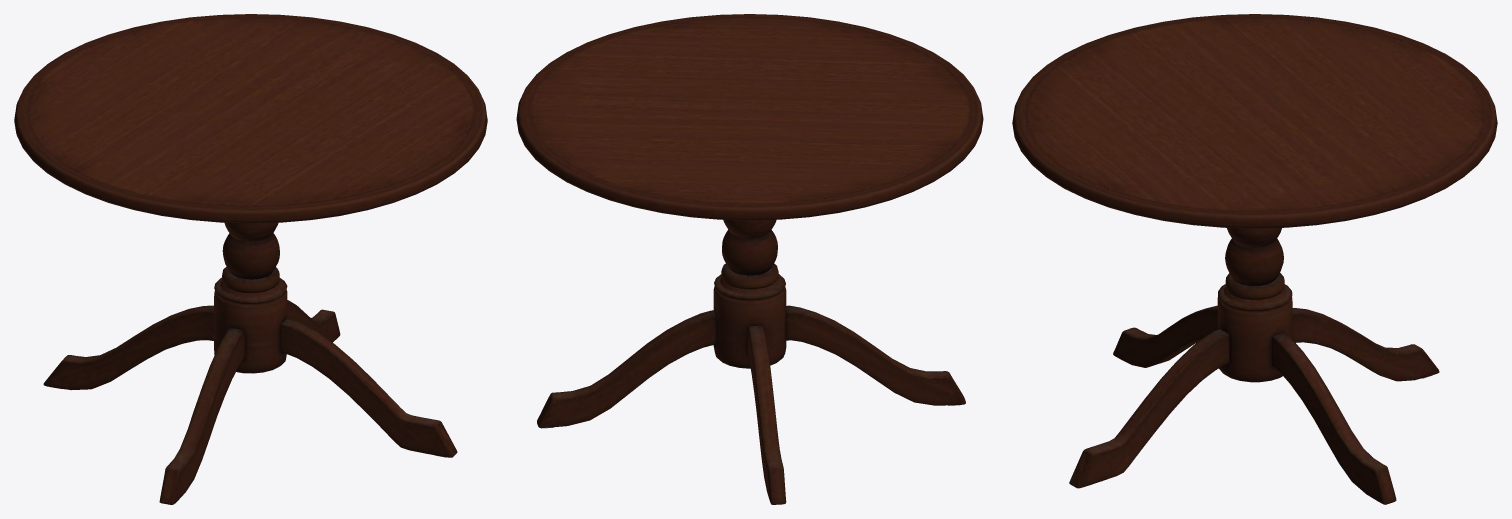
File: round_wooden_table_01.glb
3 renders of one model, left to right at view 1: azimuth 30°, elevation 25°; view 2: azimuth 150°, elevation 25°; view 3: azimuth 270°, elevation 25°, orthographic. The views are drawn at different scales.
Parts seen in each view (by area): view 1: round_wooden_table_01; view 2: round_wooden_table_01; view 3: round_wooden_table_01.
Boxes of the visible parts, x1=… form: round_wooden_table_01: x1=14, y1=14, x2=487, y2=504; round_wooden_table_01: x1=516, y1=14, x2=983, y2=504; round_wooden_table_01: x1=1012, y1=14, x2=1497, y2=504.
Size of the model in its own units: 1.4 by 1 by 1.4.
1 material, 1 textured.
